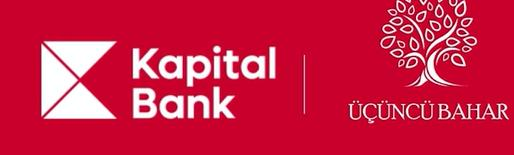Kapital Bank: (37, 38, 118, 121)
